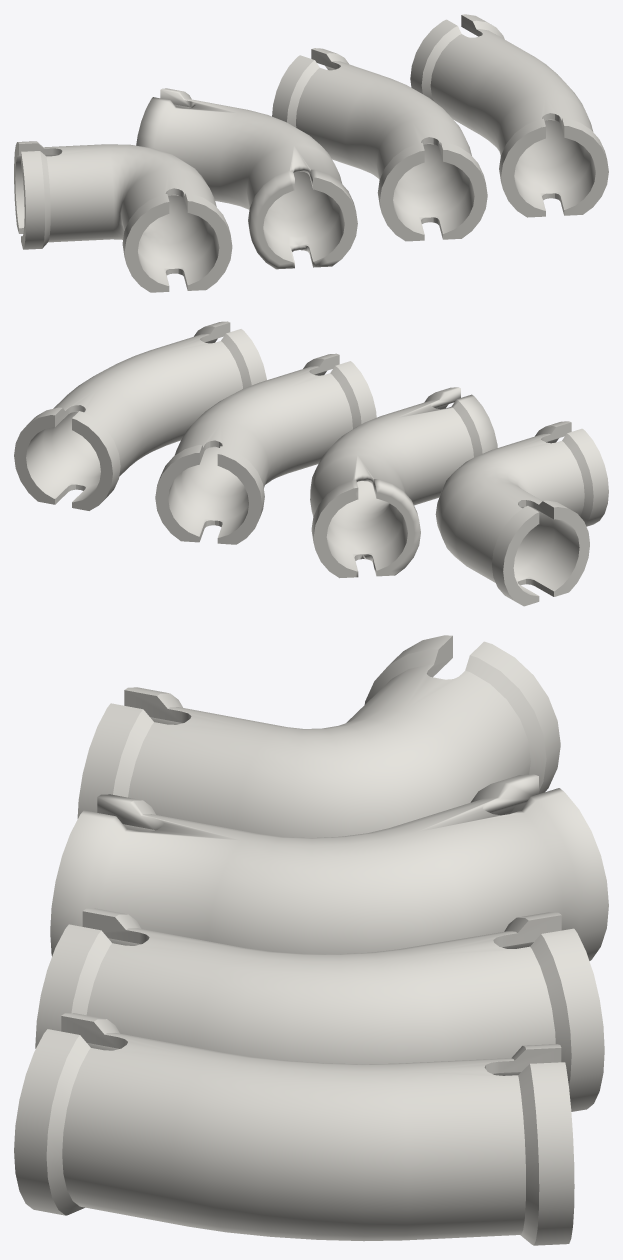
The model's file is Elbow Joints.glb.
The picture shows the model from 3 angles, top to bottom: view 1: azimuth 30°, elevation 25°; view 2: azimuth 150°, elevation 25°; view 3: azimuth 270°, elevation 25°; orthographic projection. The views are drawn at different scales.
Visible parts, largest first — view 1: elbow_joints_Object001.1; view 2: elbow_joints_Object001.1; view 3: elbow_joints_Object001.1.
Boxes of the visible parts, <box> form: elbow_joints_Object001.1: <box>14,14,608,292</box>; elbow_joints_Object001.1: <box>14,321,608,606</box>; elbow_joints_Object001.1: <box>14,635,608,1245</box>.
Bounding box in the file's own units: 0.821 × 0.1334 × 0.4307.
1 material, 1 textured.
